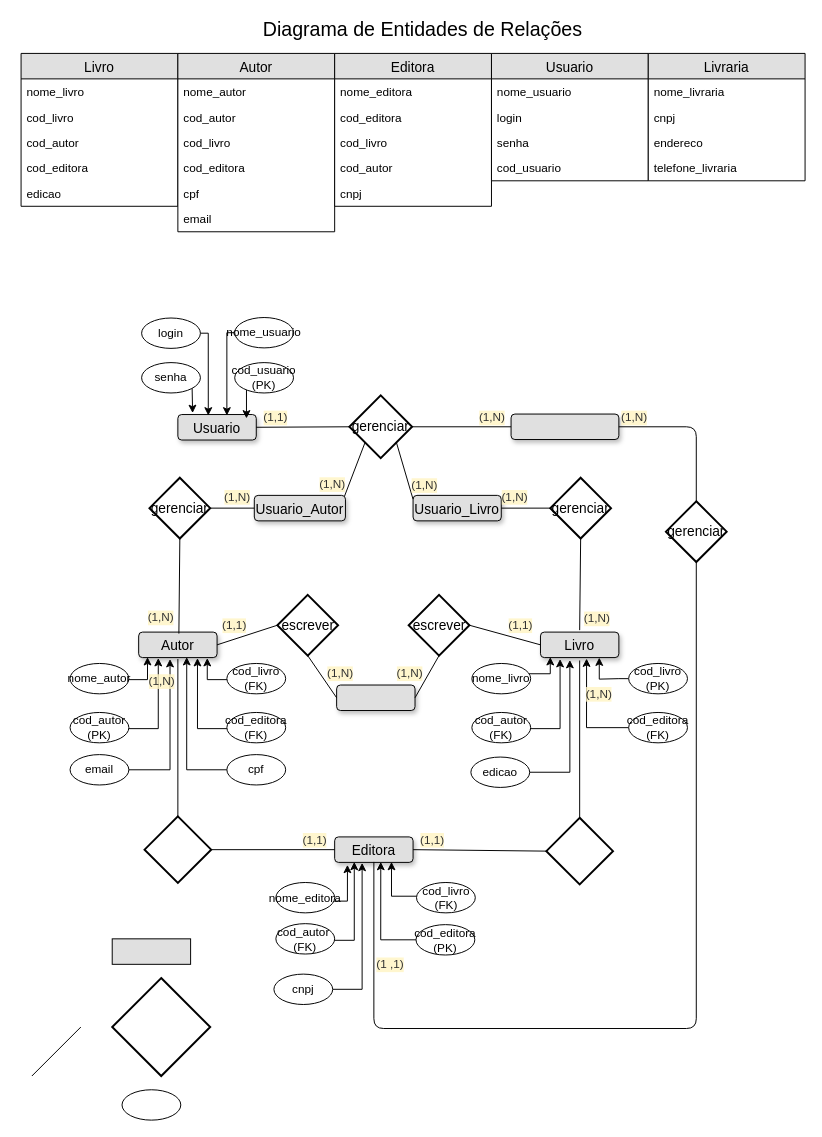
This 822x1137 diagram has some shape labels left out. Here are the shapes that lost their labels. From the top down, the centre of each, then its label:
(x=565, y=427): Usuario_Editora
(x=376, y=698): Autor_Livro
(x=177, y=849): contratar
(x=579, y=850): publicar
(x=151, y=951): Title
(x=161, y=1027): Has
